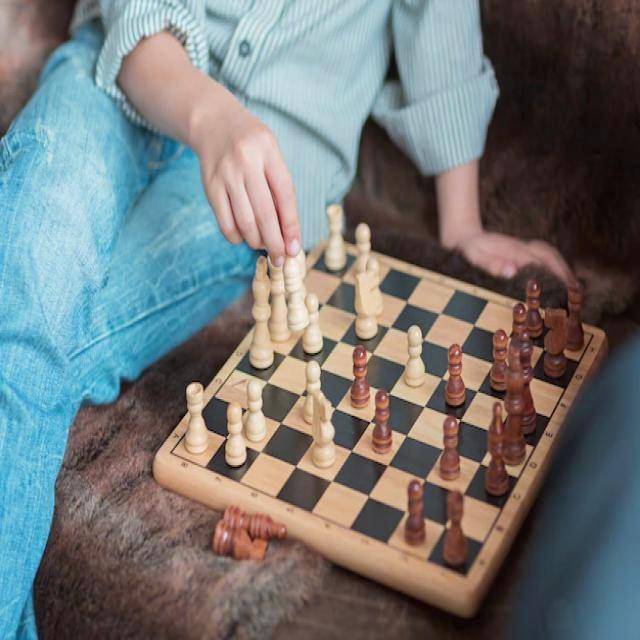chess-table-corners: (456, 564, 473, 589), (164, 444, 178, 464), (586, 328, 598, 348)
